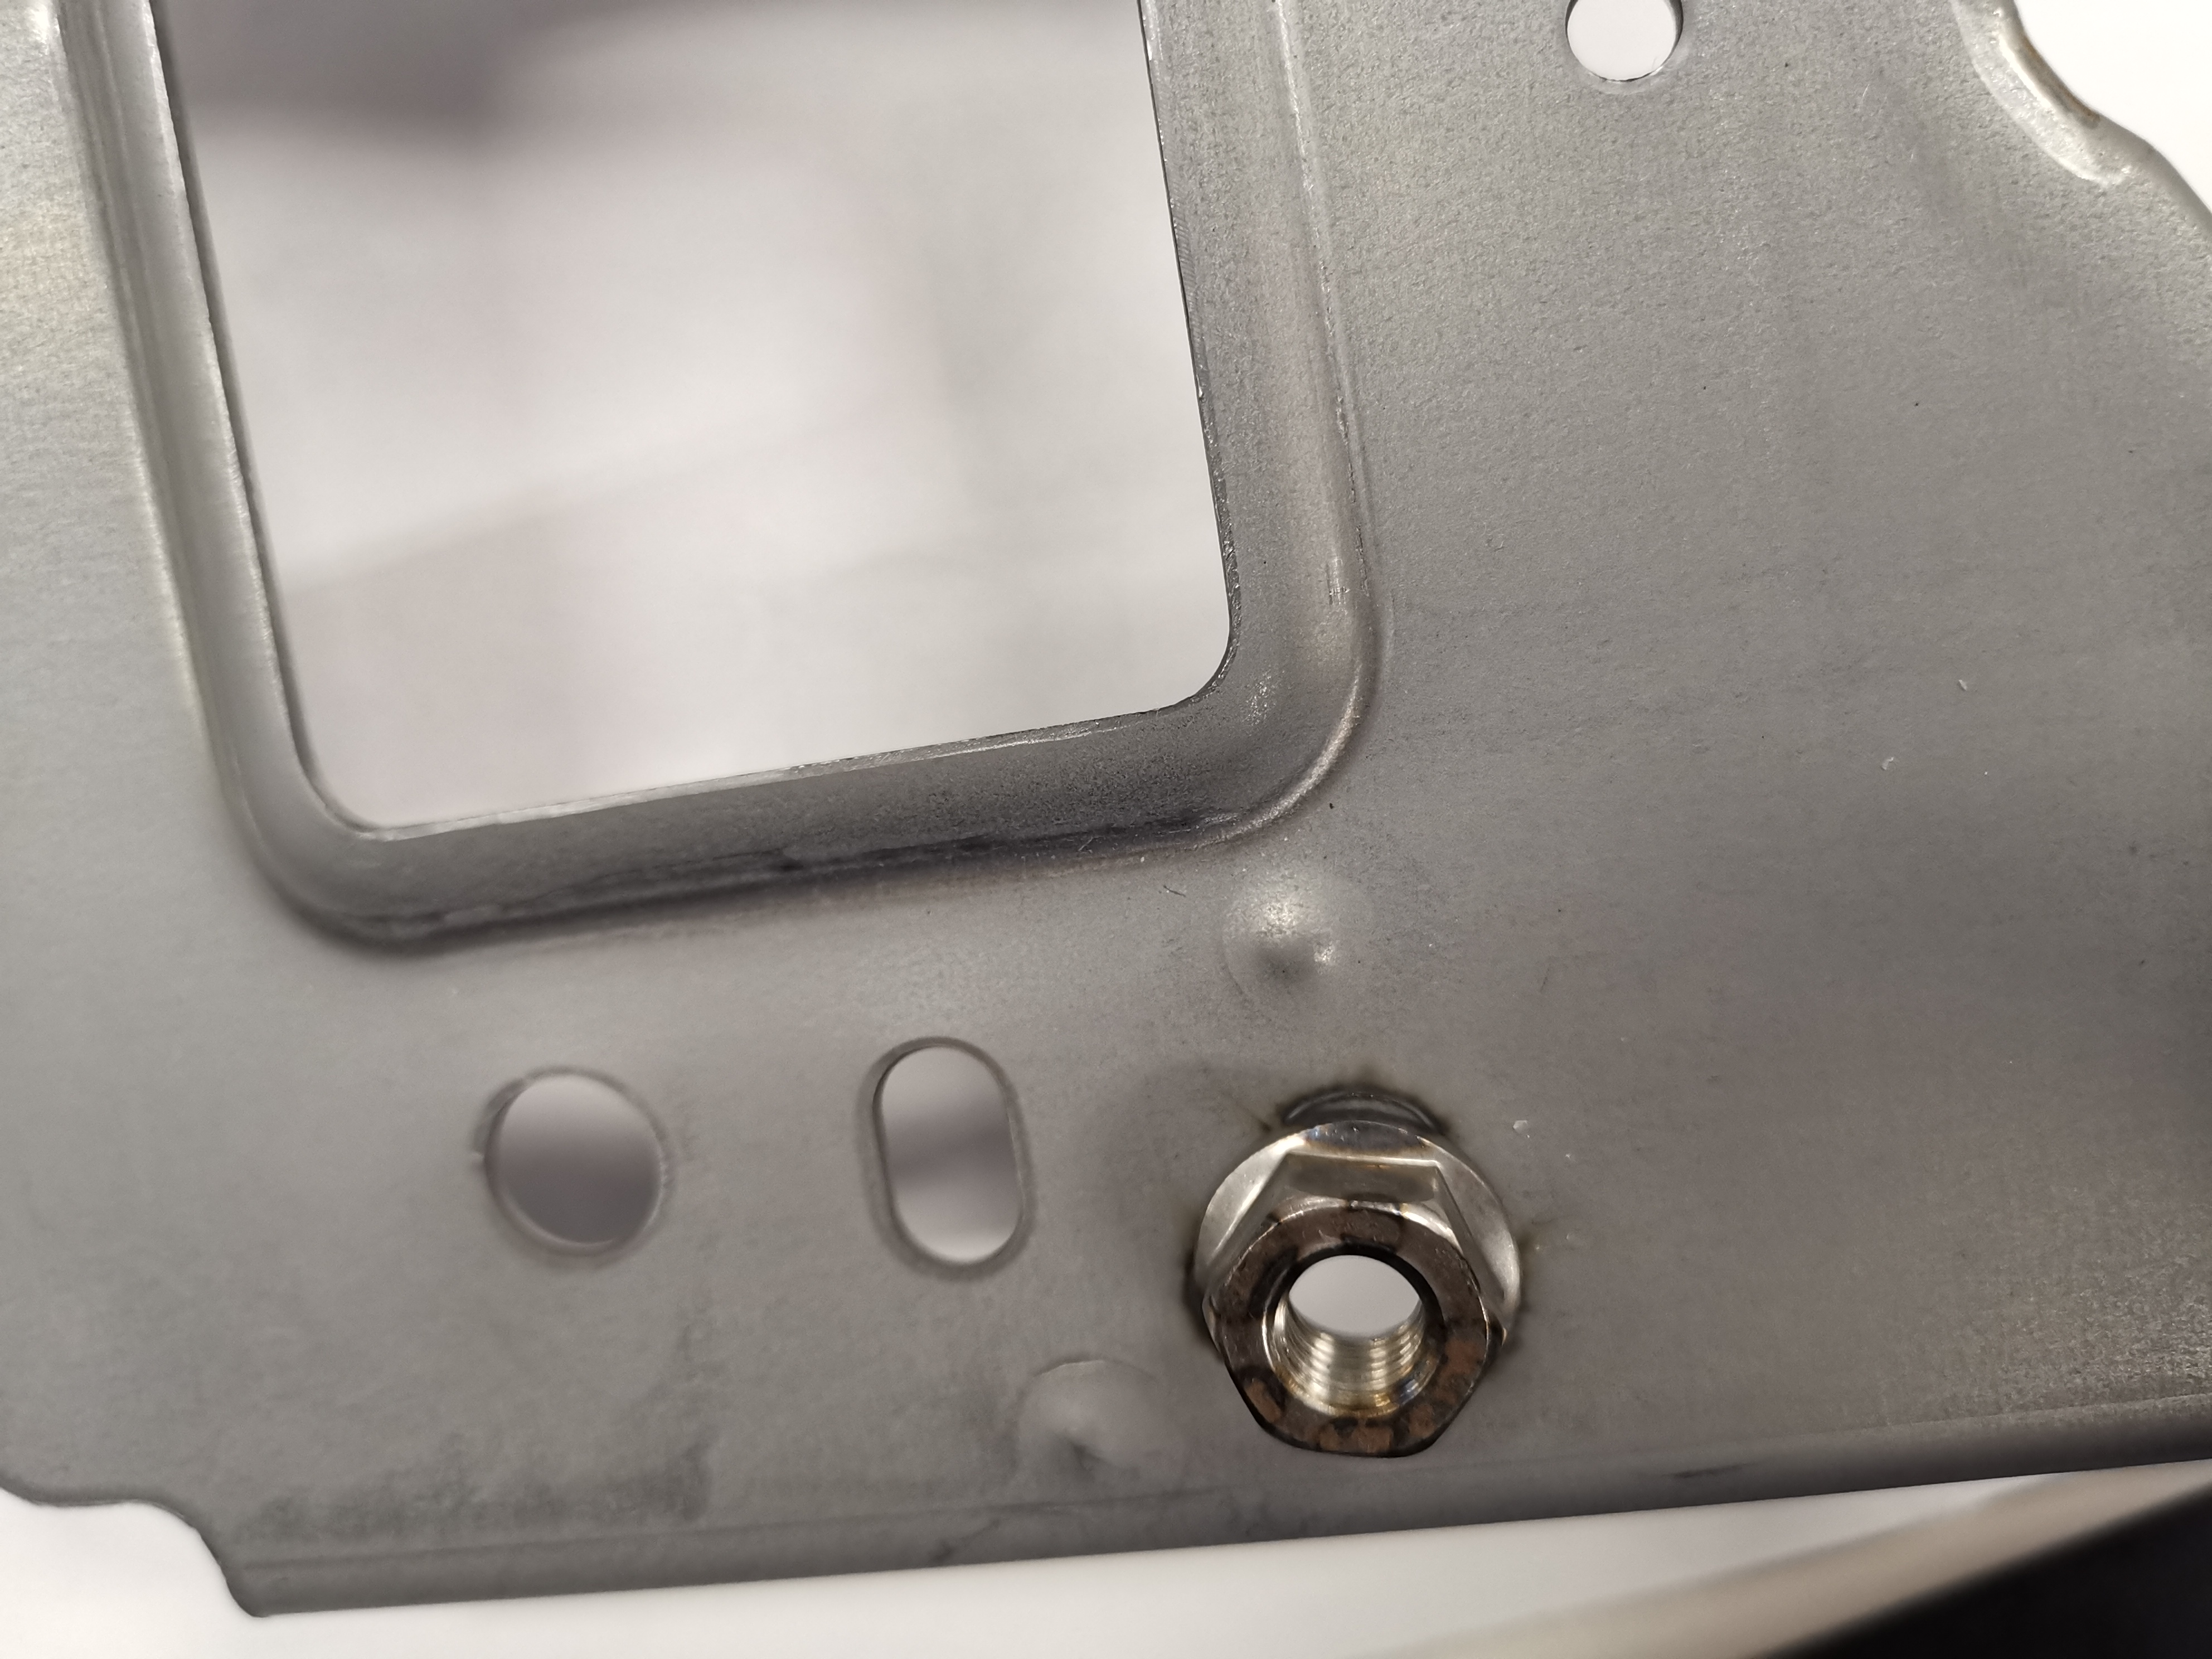dog: (1176, 1070, 1534, 1469)
